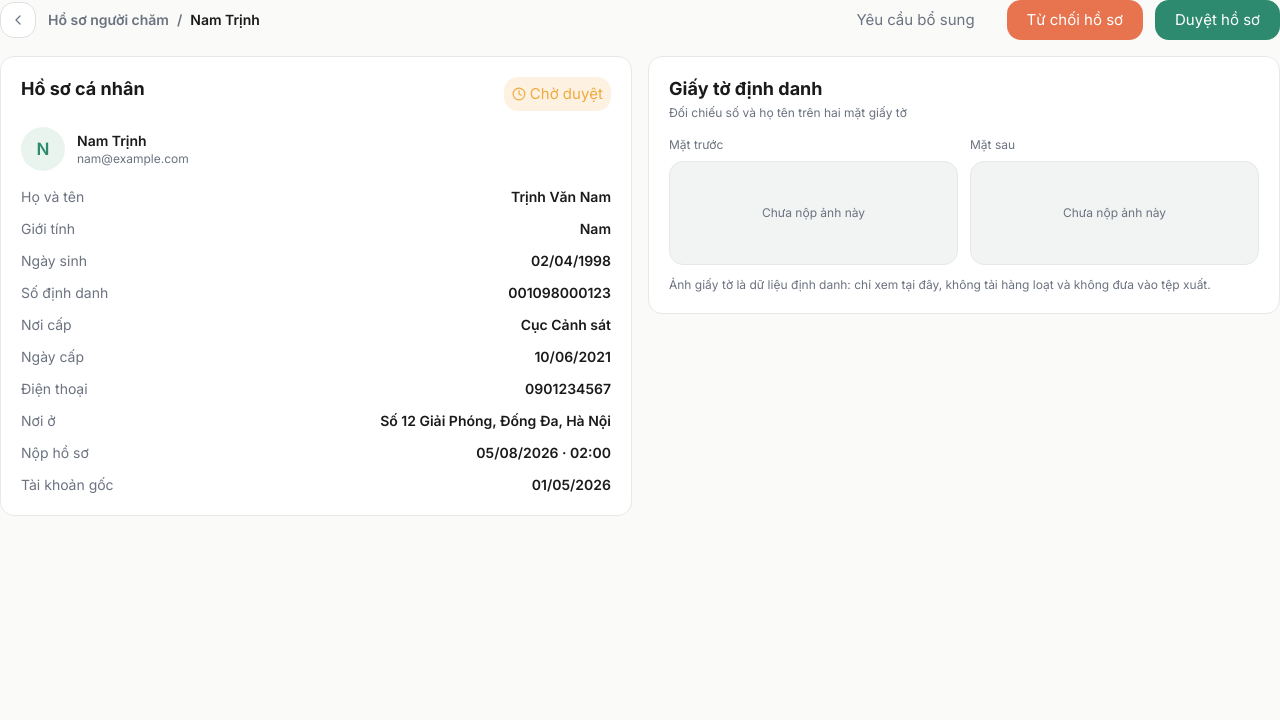
Test: Màn hồ sơ người chăm không còn nút chết › mọi nút đầu trang đều mở hộp thoại thật, không nút nào chỉ hiện toast
Click the button "Yêu cầu bổ sung".
click(916, 20)  # box left=836, top=0, right=995, bottom=40
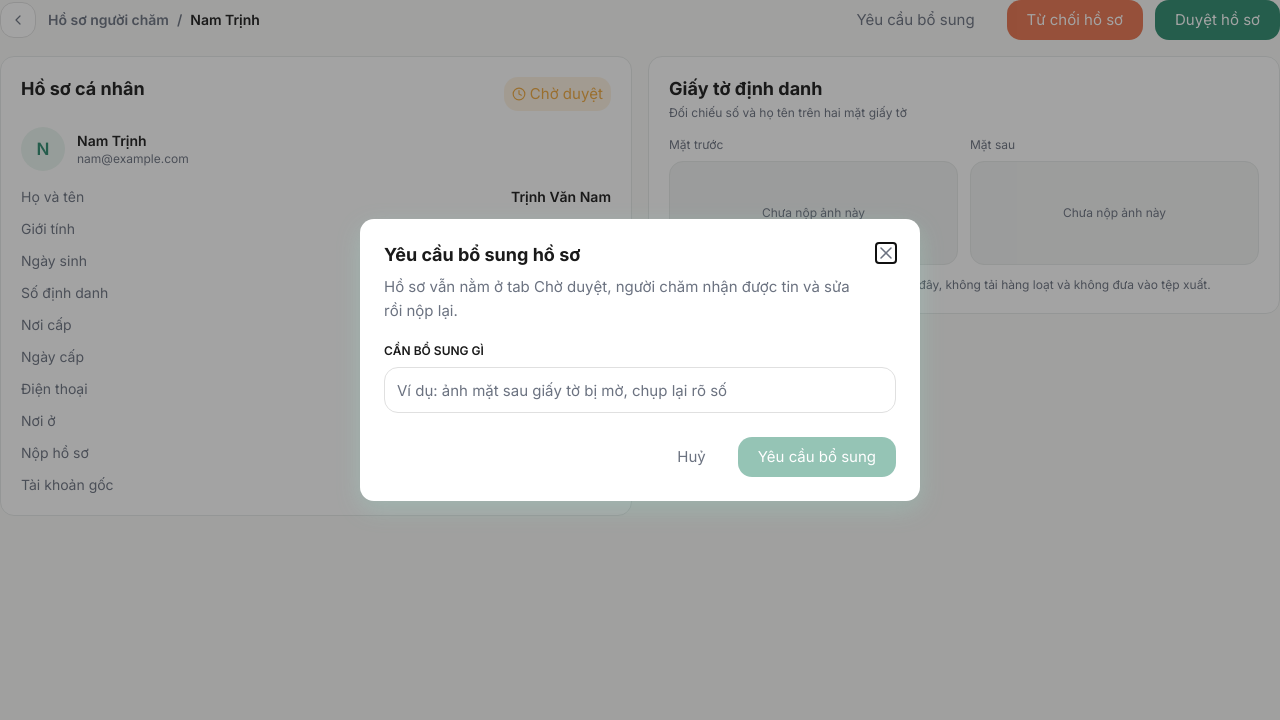
Expected: the dialog is shown, left=360, top=219, right=920, bottom=501
Press Escape
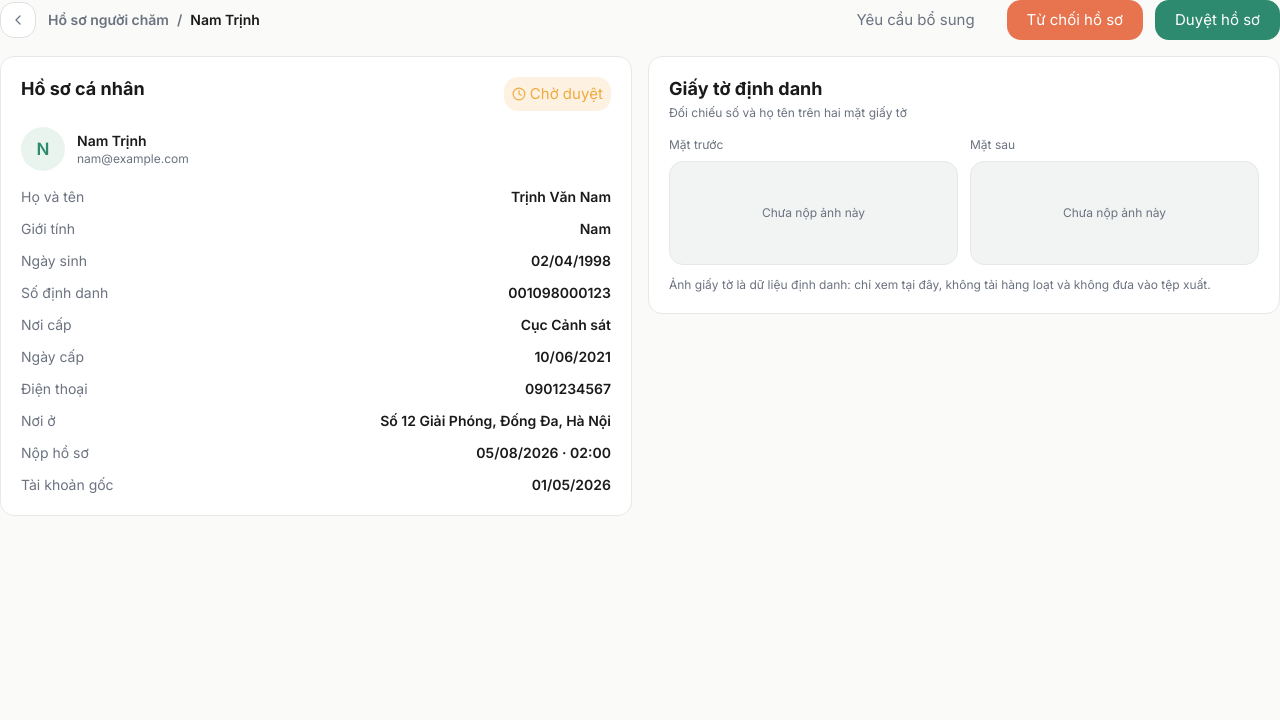
Expected: the dialog is gone
Click the button "Từ chối hồ sơ".
click(1075, 20)  # box left=1007, top=0, right=1143, bottom=40
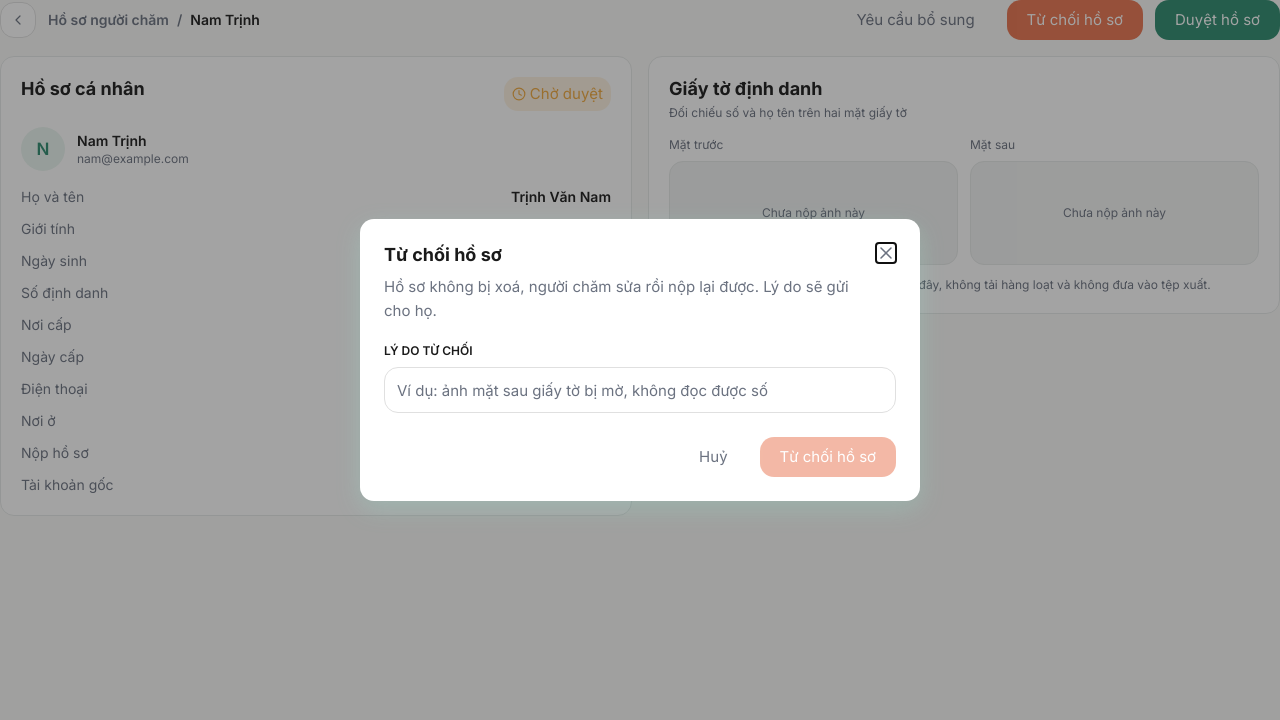
Expected: the dialog is shown, left=360, top=219, right=920, bottom=501
Press Escape
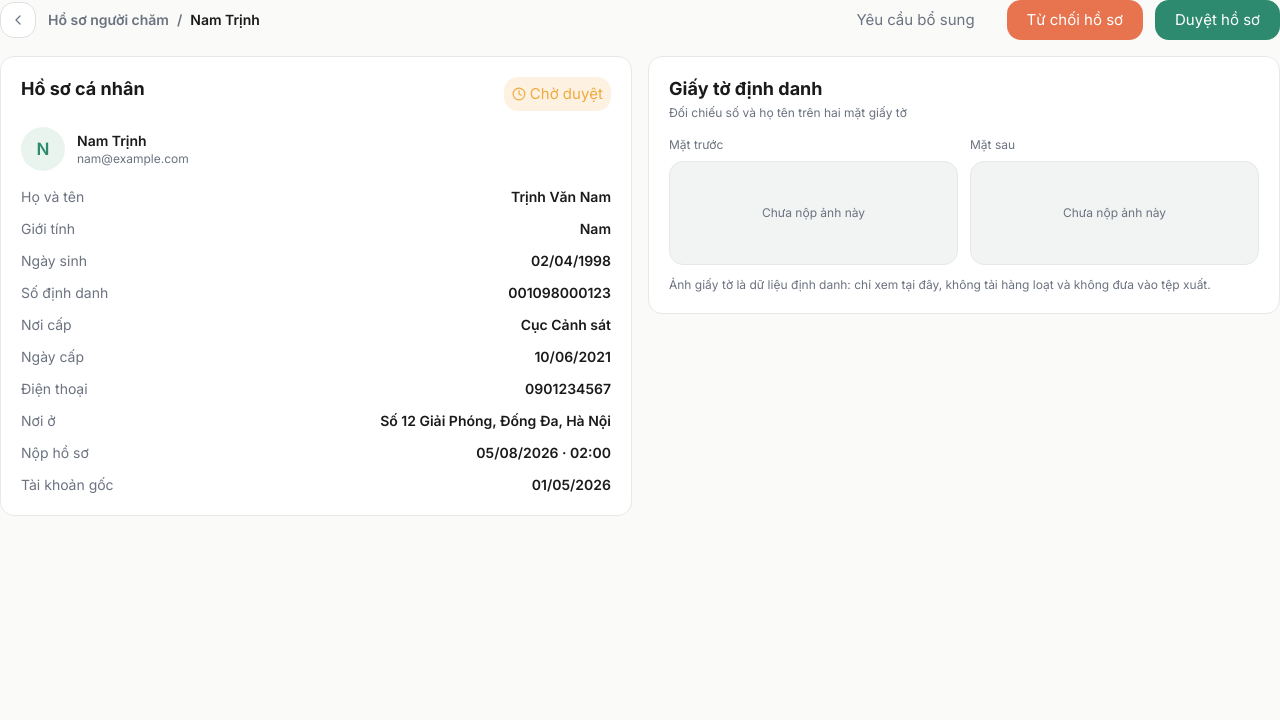
Expected: the dialog is gone
Click the button "Duyệt hồ sơ".
click(1218, 20)  # box left=1155, top=0, right=1279, bottom=40
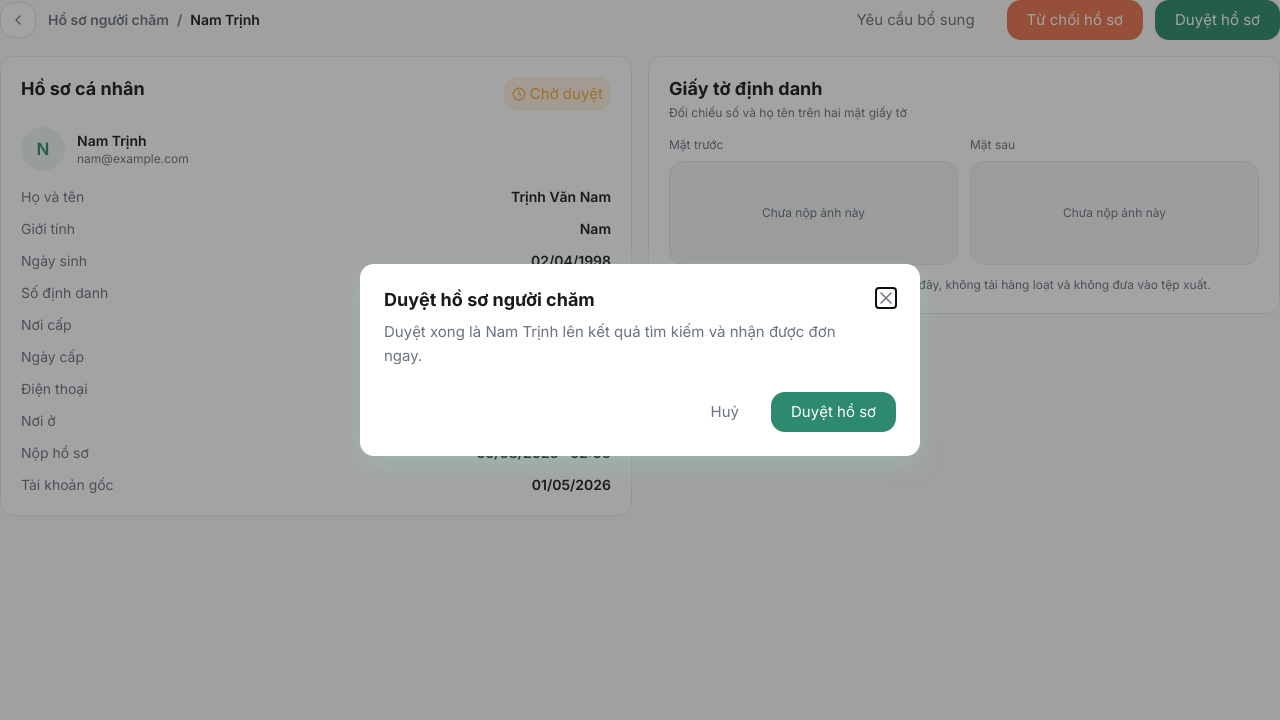
Expected: the dialog is shown, left=360, top=264, right=920, bottom=456
Press Escape
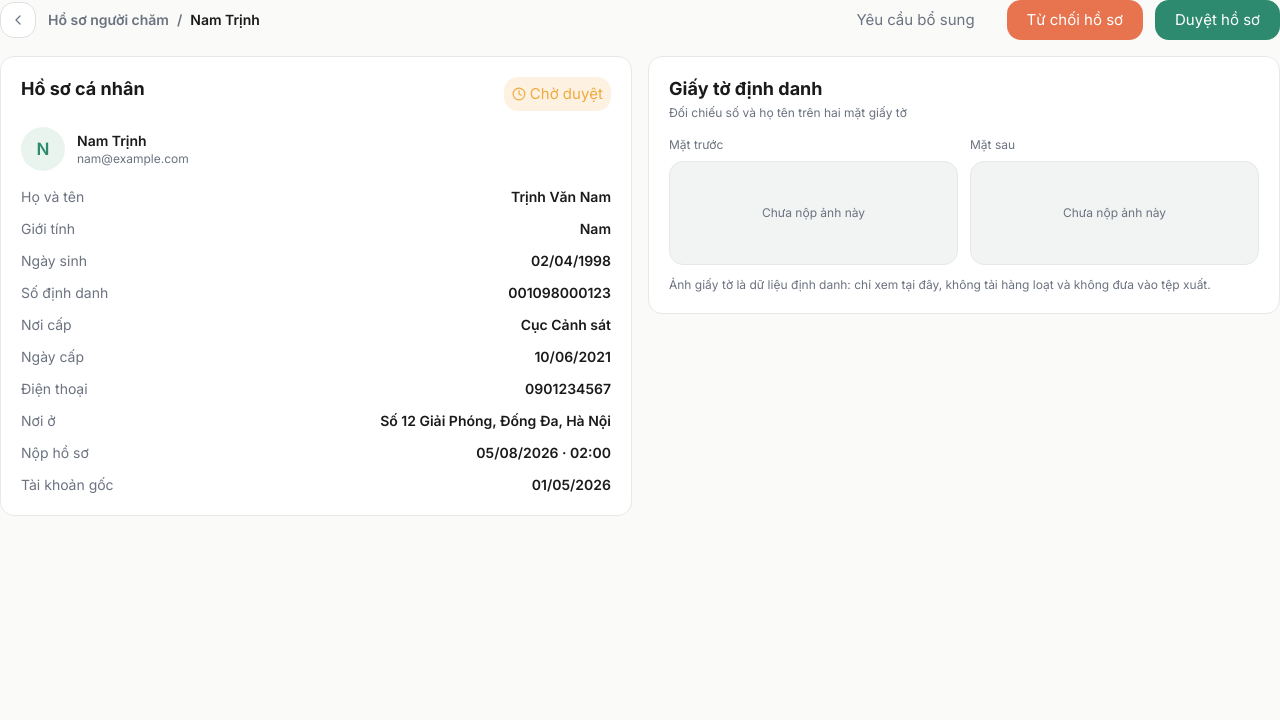
Expected: the dialog is gone
